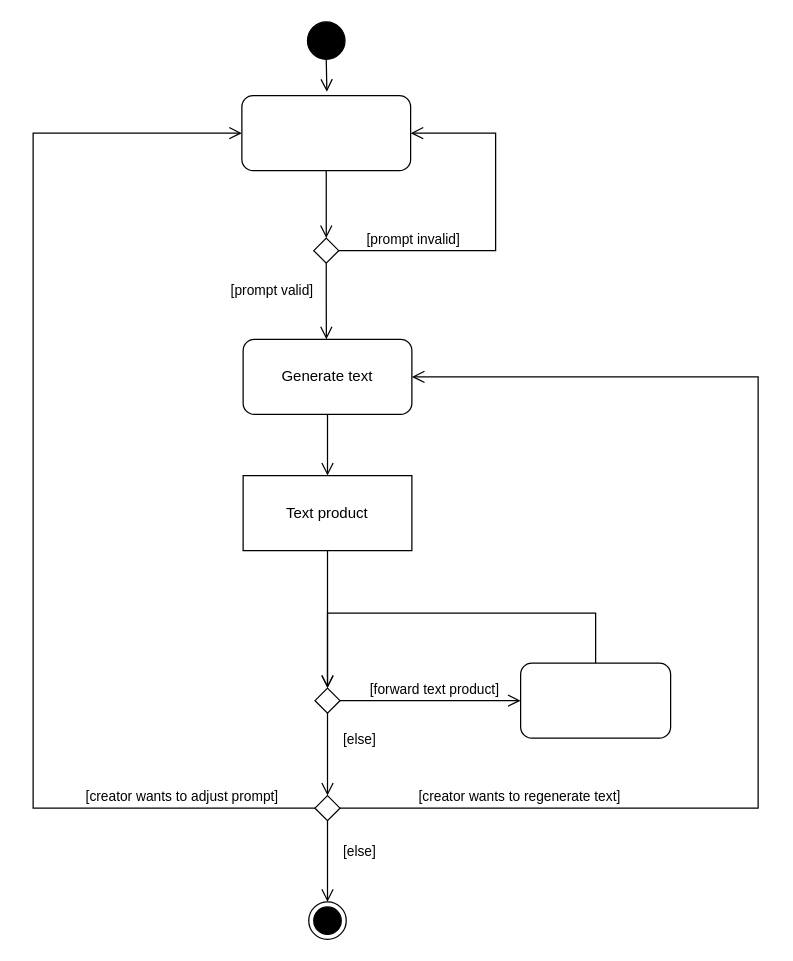
Some shapes in this 793 by 961 pixel diagram are drawn without their labels. The centre of each missing label's shape, as x and y in pixels:
"Input text generation prompt" belongs at [326,132].
"Text forward" belongs at [595,700].
